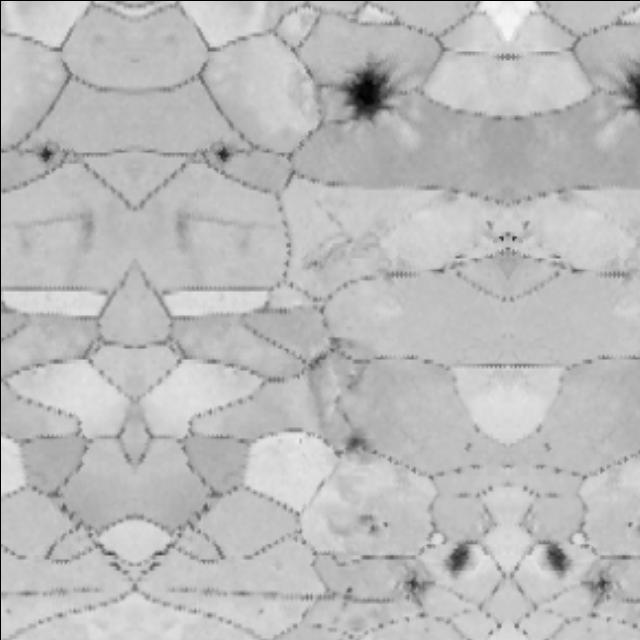good_void: (331, 63, 409, 136), (605, 66, 640, 136), (574, 563, 620, 612), (394, 563, 439, 612), (316, 327, 356, 365), (441, 538, 476, 581), (537, 538, 572, 581), (326, 433, 368, 464), (356, 506, 393, 541), (207, 136, 234, 172), (32, 136, 59, 172), (480, 215, 507, 250), (507, 215, 534, 250), (302, 247, 333, 275), (621, 507, 640, 541), (336, 578, 358, 600)
